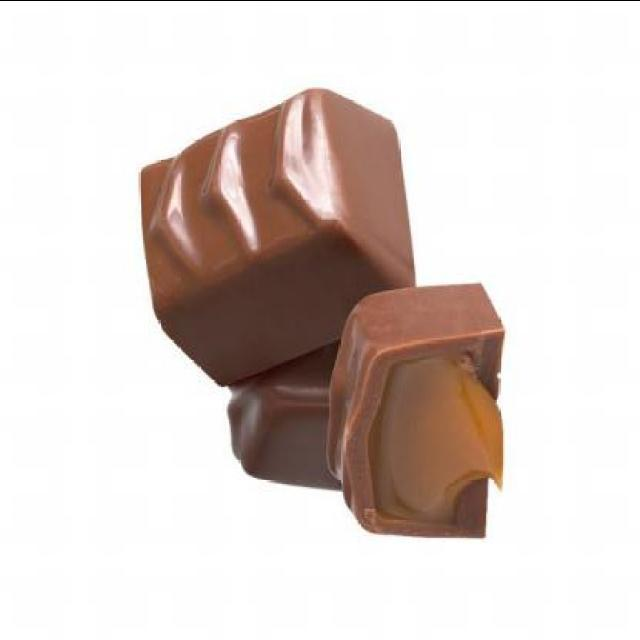Chocolate bar packaged: (136, 86, 420, 389), (324, 273, 508, 549)
